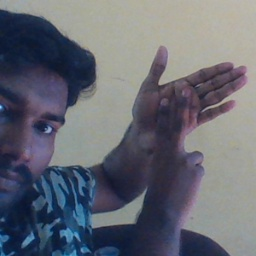N: (126, 41, 250, 198)
